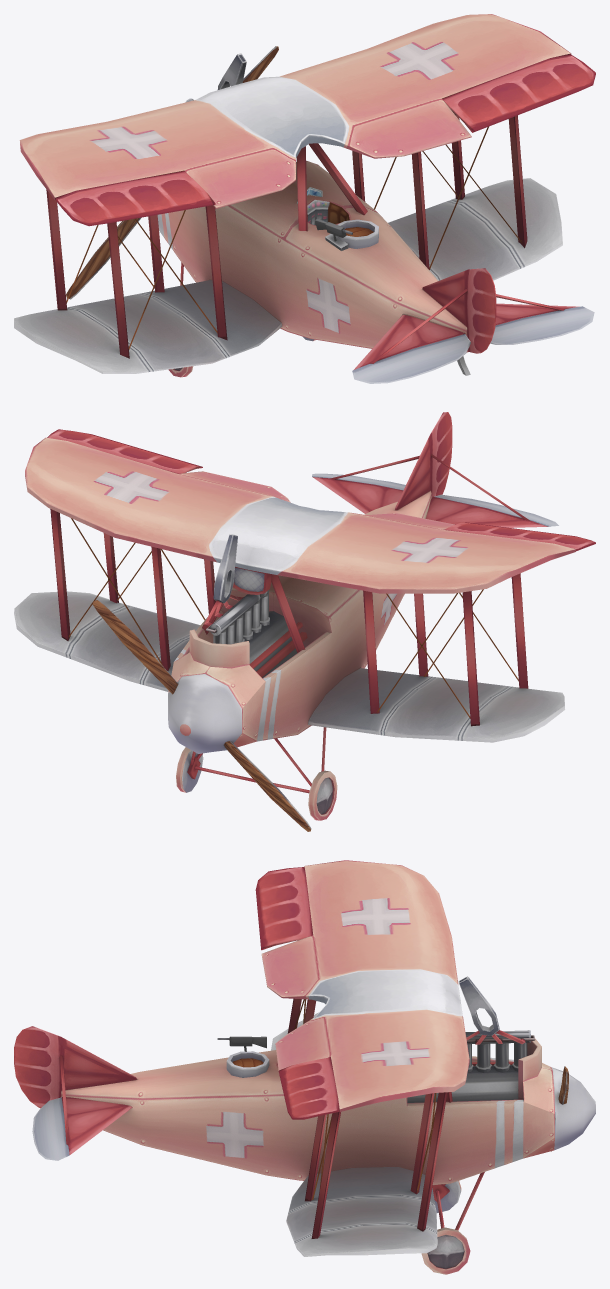
The model's file is stylized_airplane.glb.
The picture shows the model from 3 angles, top to bottom: view 1: azimuth 30°, elevation 25°; view 2: azimuth 150°, elevation 25°; view 3: azimuth 270°, elevation 25°; orthographic projection. The views are drawn at different scales.
Parts seen in each view (by area): view 1: Stylized_EarlyRumplerIV_Material #25_0; view 2: Stylized_EarlyRumplerIV_Material #25_0; view 3: Stylized_EarlyRumplerIV_Material #25_0.
Part boxes in pixels (box(x1,y1,x2,y2)): Stylized_EarlyRumplerIV_Material #25_0: box(14, 14, 595, 383); Stylized_EarlyRumplerIV_Material #25_0: box(14, 412, 595, 831); Stylized_EarlyRumplerIV_Material #25_0: box(14, 860, 595, 1274).
Size of the model in its own units: 2.2 by 1.12 by 2.19.
Materials: 1 (1 with a texture image).
